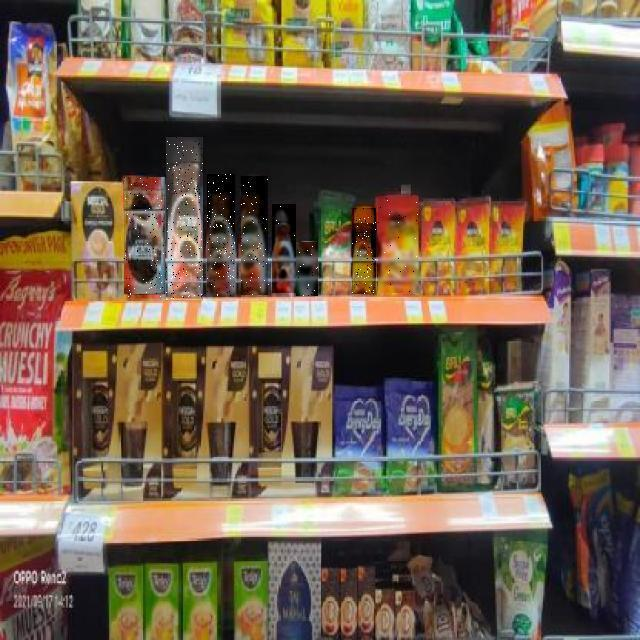Coffee: (166, 137, 203, 300), (124, 178, 165, 298), (379, 196, 419, 293), (207, 174, 235, 297), (242, 176, 270, 295), (272, 204, 296, 293), (352, 208, 376, 294), (296, 242, 318, 296)
